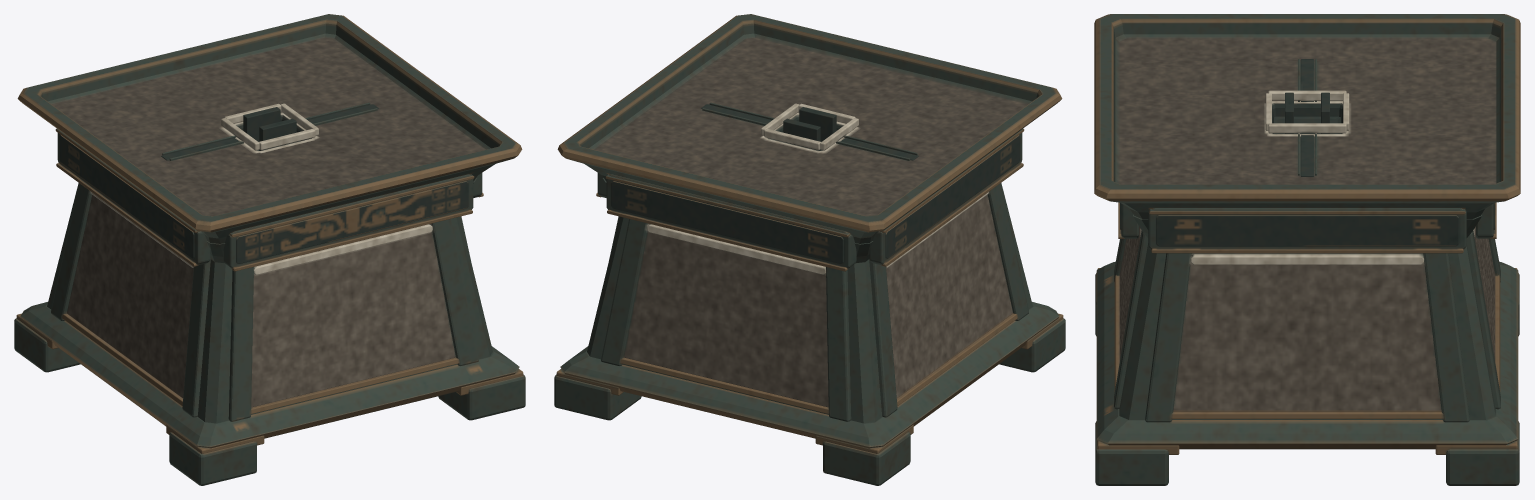
Rendered from B1Body.fbx.
The picture shows the model from 3 angles, left to right: view 1: azimuth 30°, elevation 25°; view 2: azimuth 150°, elevation 25°; view 3: azimuth 270°, elevation 25°; orthographic projection. The views are drawn at different scales.
Visible parts, largest first — view 1: PedestalBody; view 2: PedestalBody; view 3: PedestalBody.
Boxes of the visible parts, <box> form: PedestalBody: <box>14,14,525,485</box>; PedestalBody: <box>554,14,1065,485</box>; PedestalBody: <box>1094,14,1520,485</box>.
Bounding box in the file's own units: 0.85 × 0.65 × 0.85.
1 material, 1 textured.
